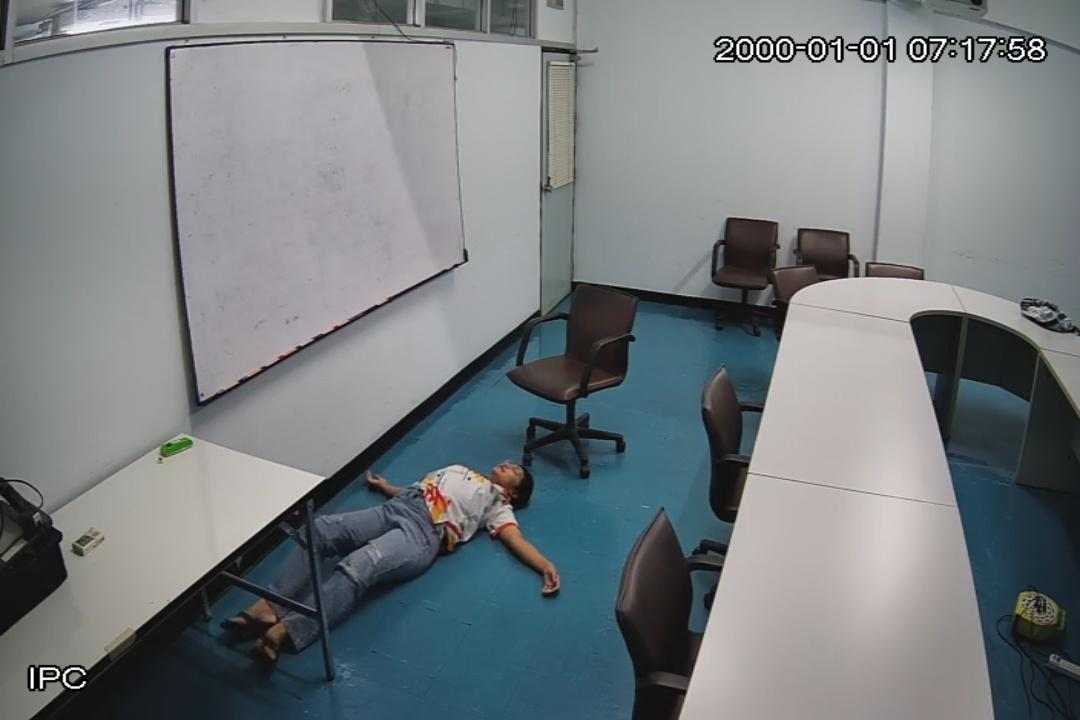fall: (225, 458, 565, 667)
